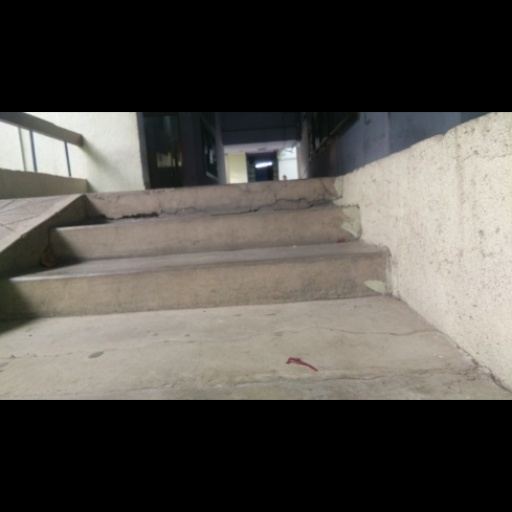Stairs: (0, 179, 388, 320)
